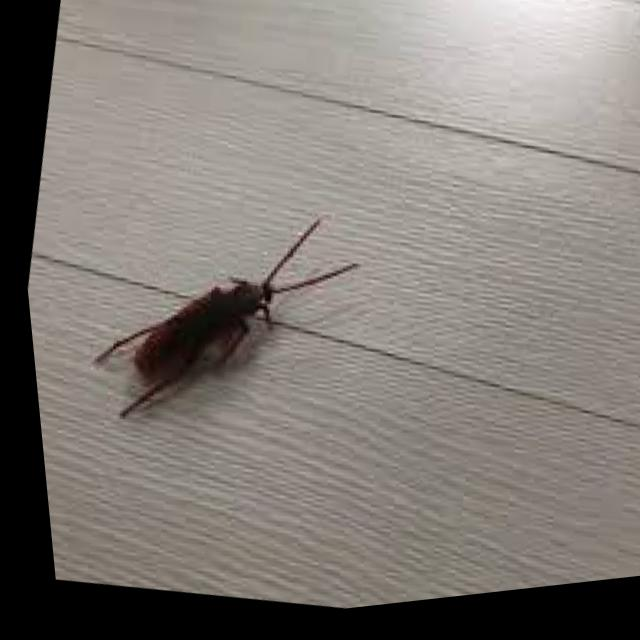Cockroach: (43, 174, 370, 486)
